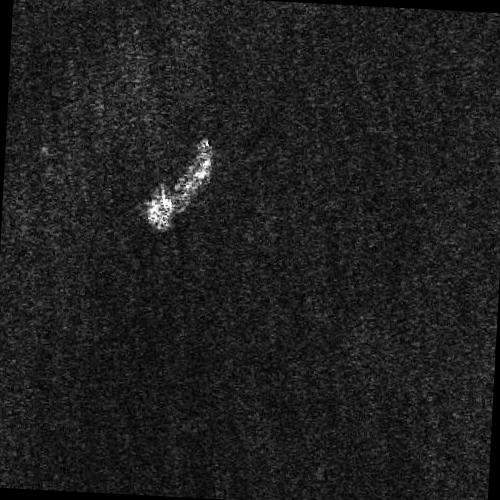ship: (146, 139, 214, 230)
